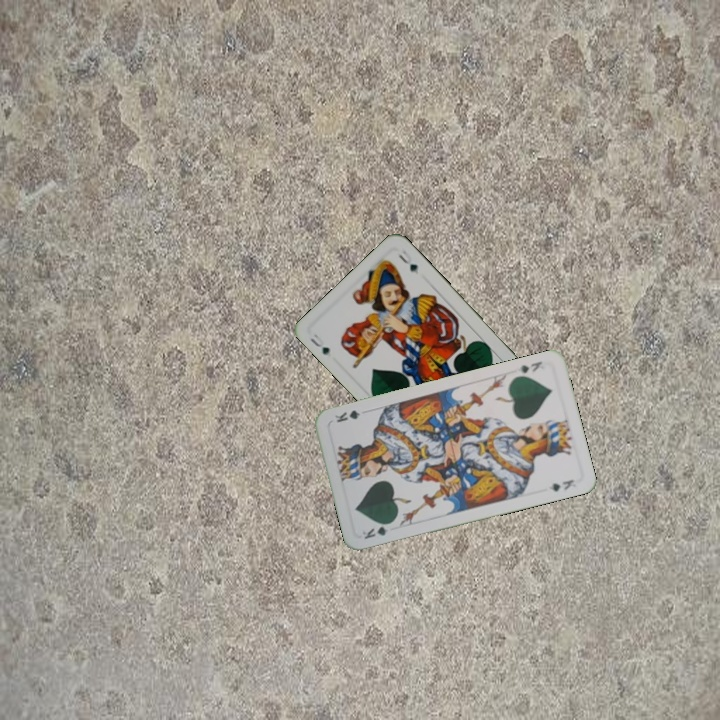GK: (358, 518, 396, 542), (513, 357, 545, 376)
GU: (306, 329, 332, 358)
